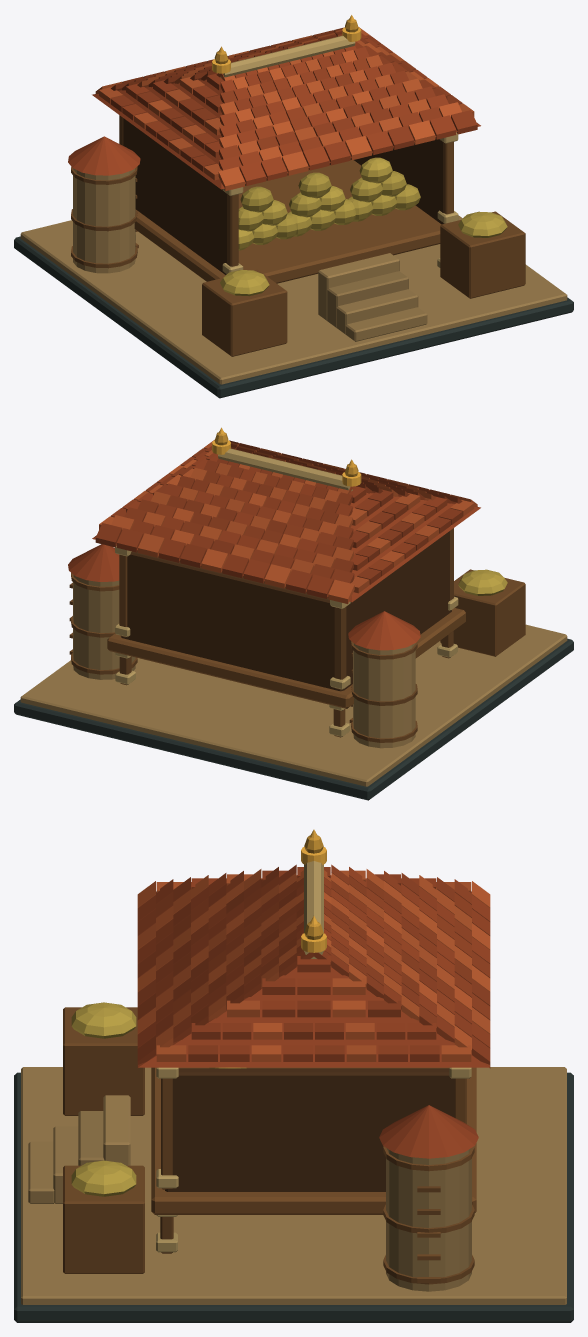
The picture shows the model from 3 angles, top to bottom: view 1: azimuth 30°, elevation 25°; view 2: azimuth 150°, elevation 25°; view 3: azimuth 270°, elevation 25°; orthographic projection. The views are drawn at different scales.
Parts seen in each view (by area): view 1: granary_4_structure; view 2: granary_4_structure; view 3: granary_4_structure, granary_4_metal.
Part boxes in pixels (x1=…): granary_4_structure: x1=14, y1=19, x2=573, y2=398; granary_4_structure: x1=14, y1=432, x2=573, y2=800; granary_4_structure: x1=14, y1=835, x2=573, y2=1322; granary_4_metal: x1=301, y1=829, x2=326, y2=952.
Size of the model in its own units: 5.6 by 3.68 by 5.6.
